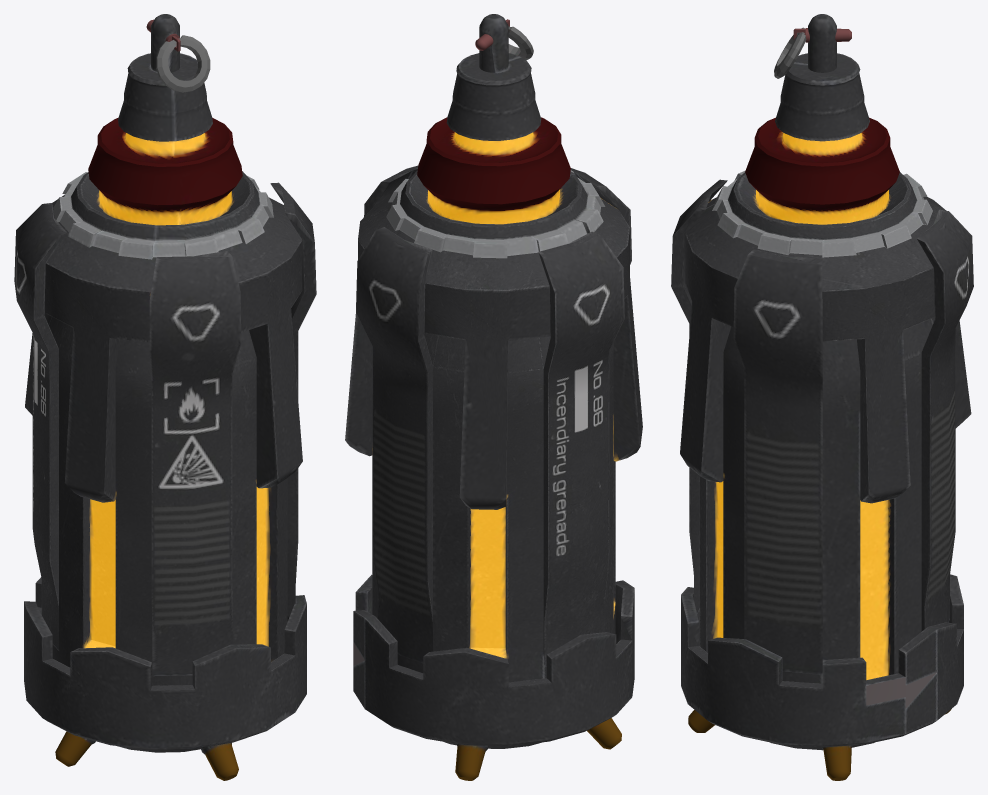
File: incendiary_grenade.glb
3 renders of one model, left to right at view 1: azimuth 30°, elevation 25°; view 2: azimuth 150°, elevation 25°; view 3: azimuth 270°, elevation 25°, orthographic.
Parts seen in each view (by area): view 1: g; view 2: g; view 3: g.
Boxes of the visible parts, left/top/right/bottom form: g: left=14, top=14, right=316, bottom=780; g: left=345, top=14, right=642, bottom=780; g: left=671, top=14, right=973, bottom=780.
Bounding box in the file's own units: 0.7671 × 2 × 0.7671.
Materials: 1 (1 with a texture image).
